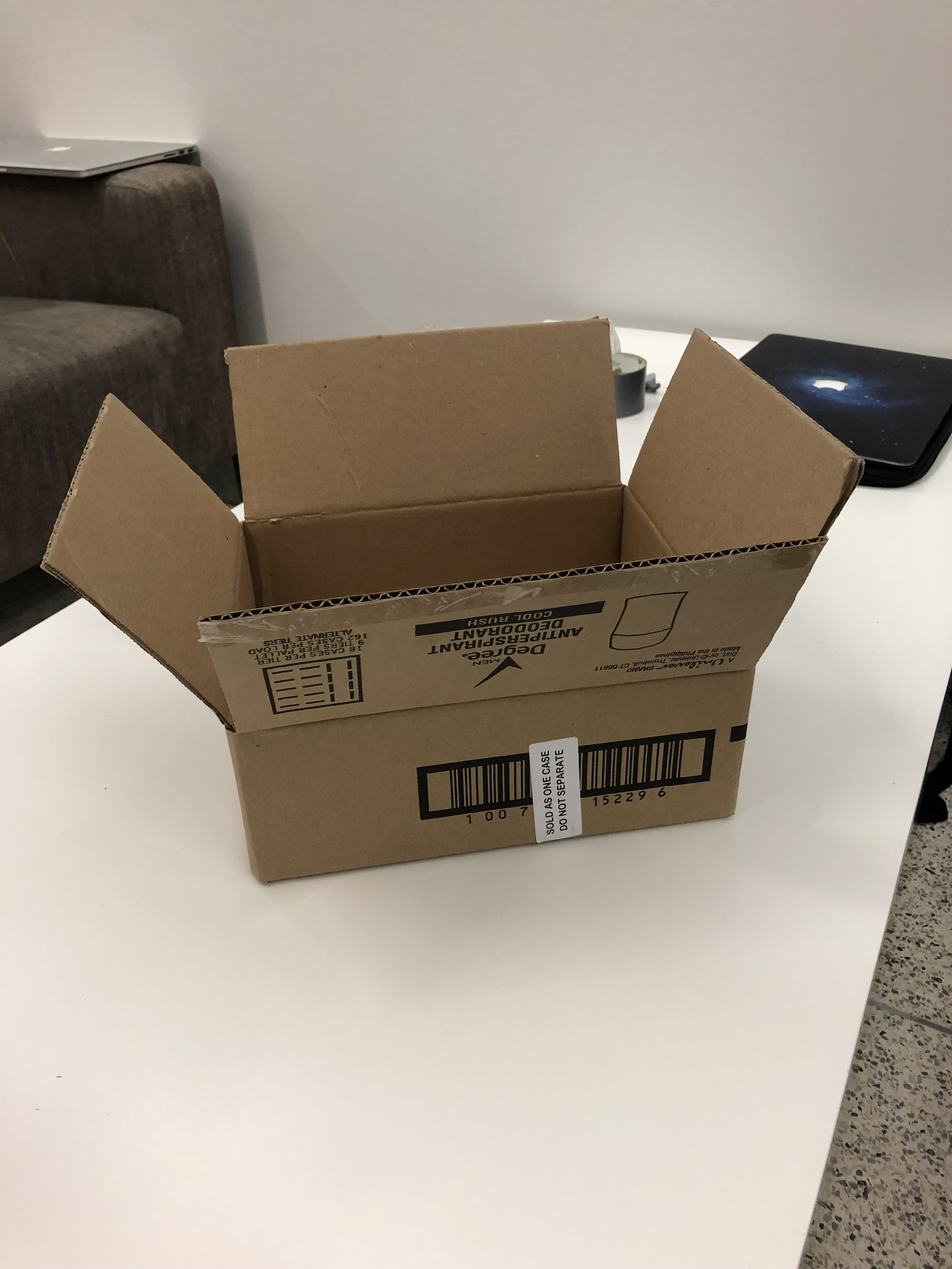box: (39, 315, 851, 874)
crushed: (43, 321, 847, 729)
